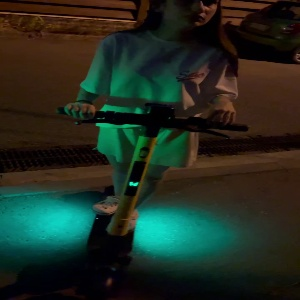human on a scooter: (56, 1, 250, 300)
